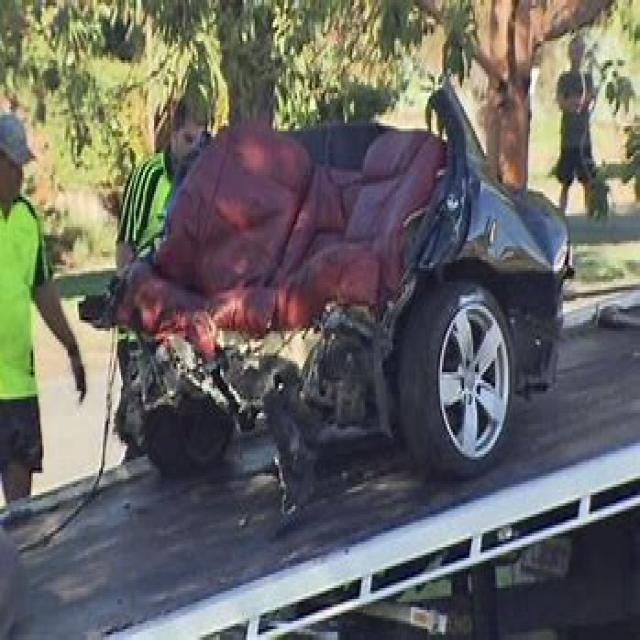Accident: (123, 112, 587, 432)
